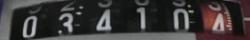digits: (96, 8, 111, 36), (57, 13, 75, 36), (173, 8, 190, 32), (210, 13, 229, 34), (134, 6, 148, 32), (22, 15, 37, 37)
